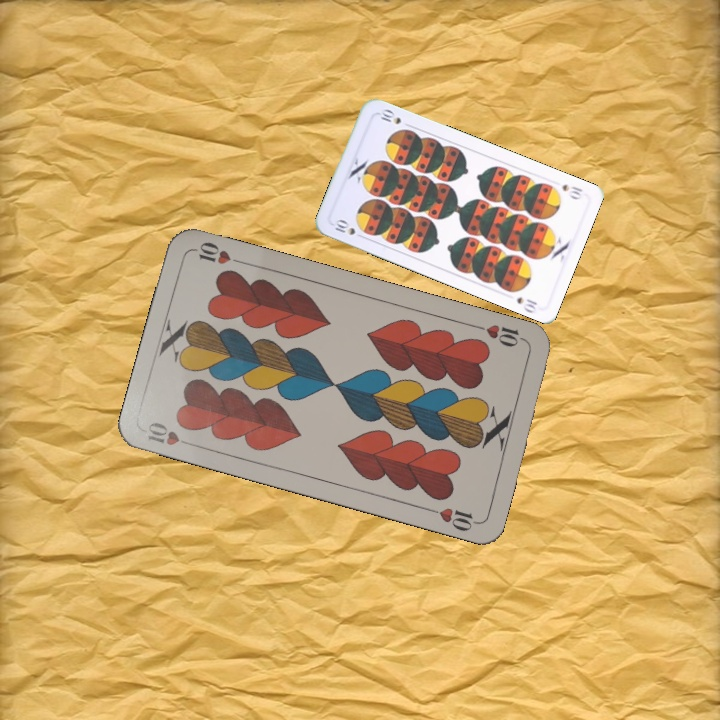H10: (143, 418, 199, 450), (471, 320, 529, 350)
S10: (331, 215, 367, 241), (558, 180, 585, 202)
